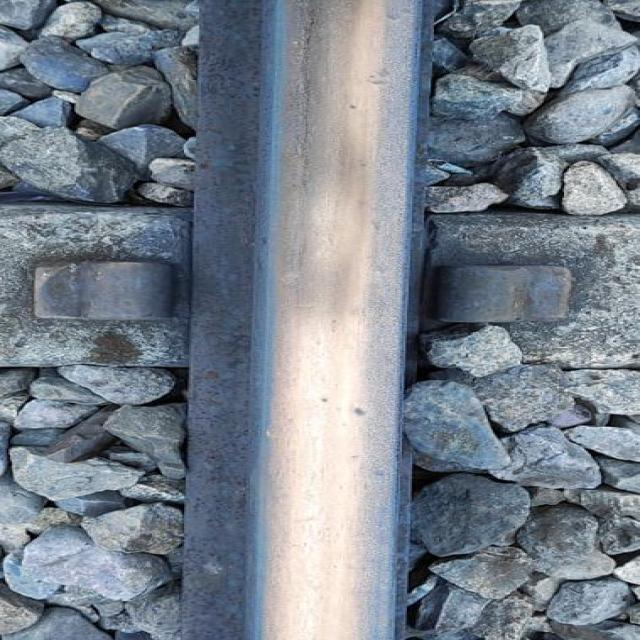Missing Fastener: (6, 226, 224, 334), (436, 249, 623, 344)
